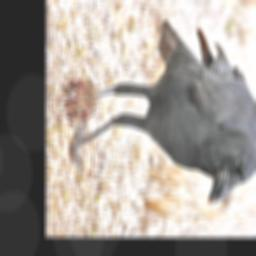Crow: (67, 18, 256, 204)
